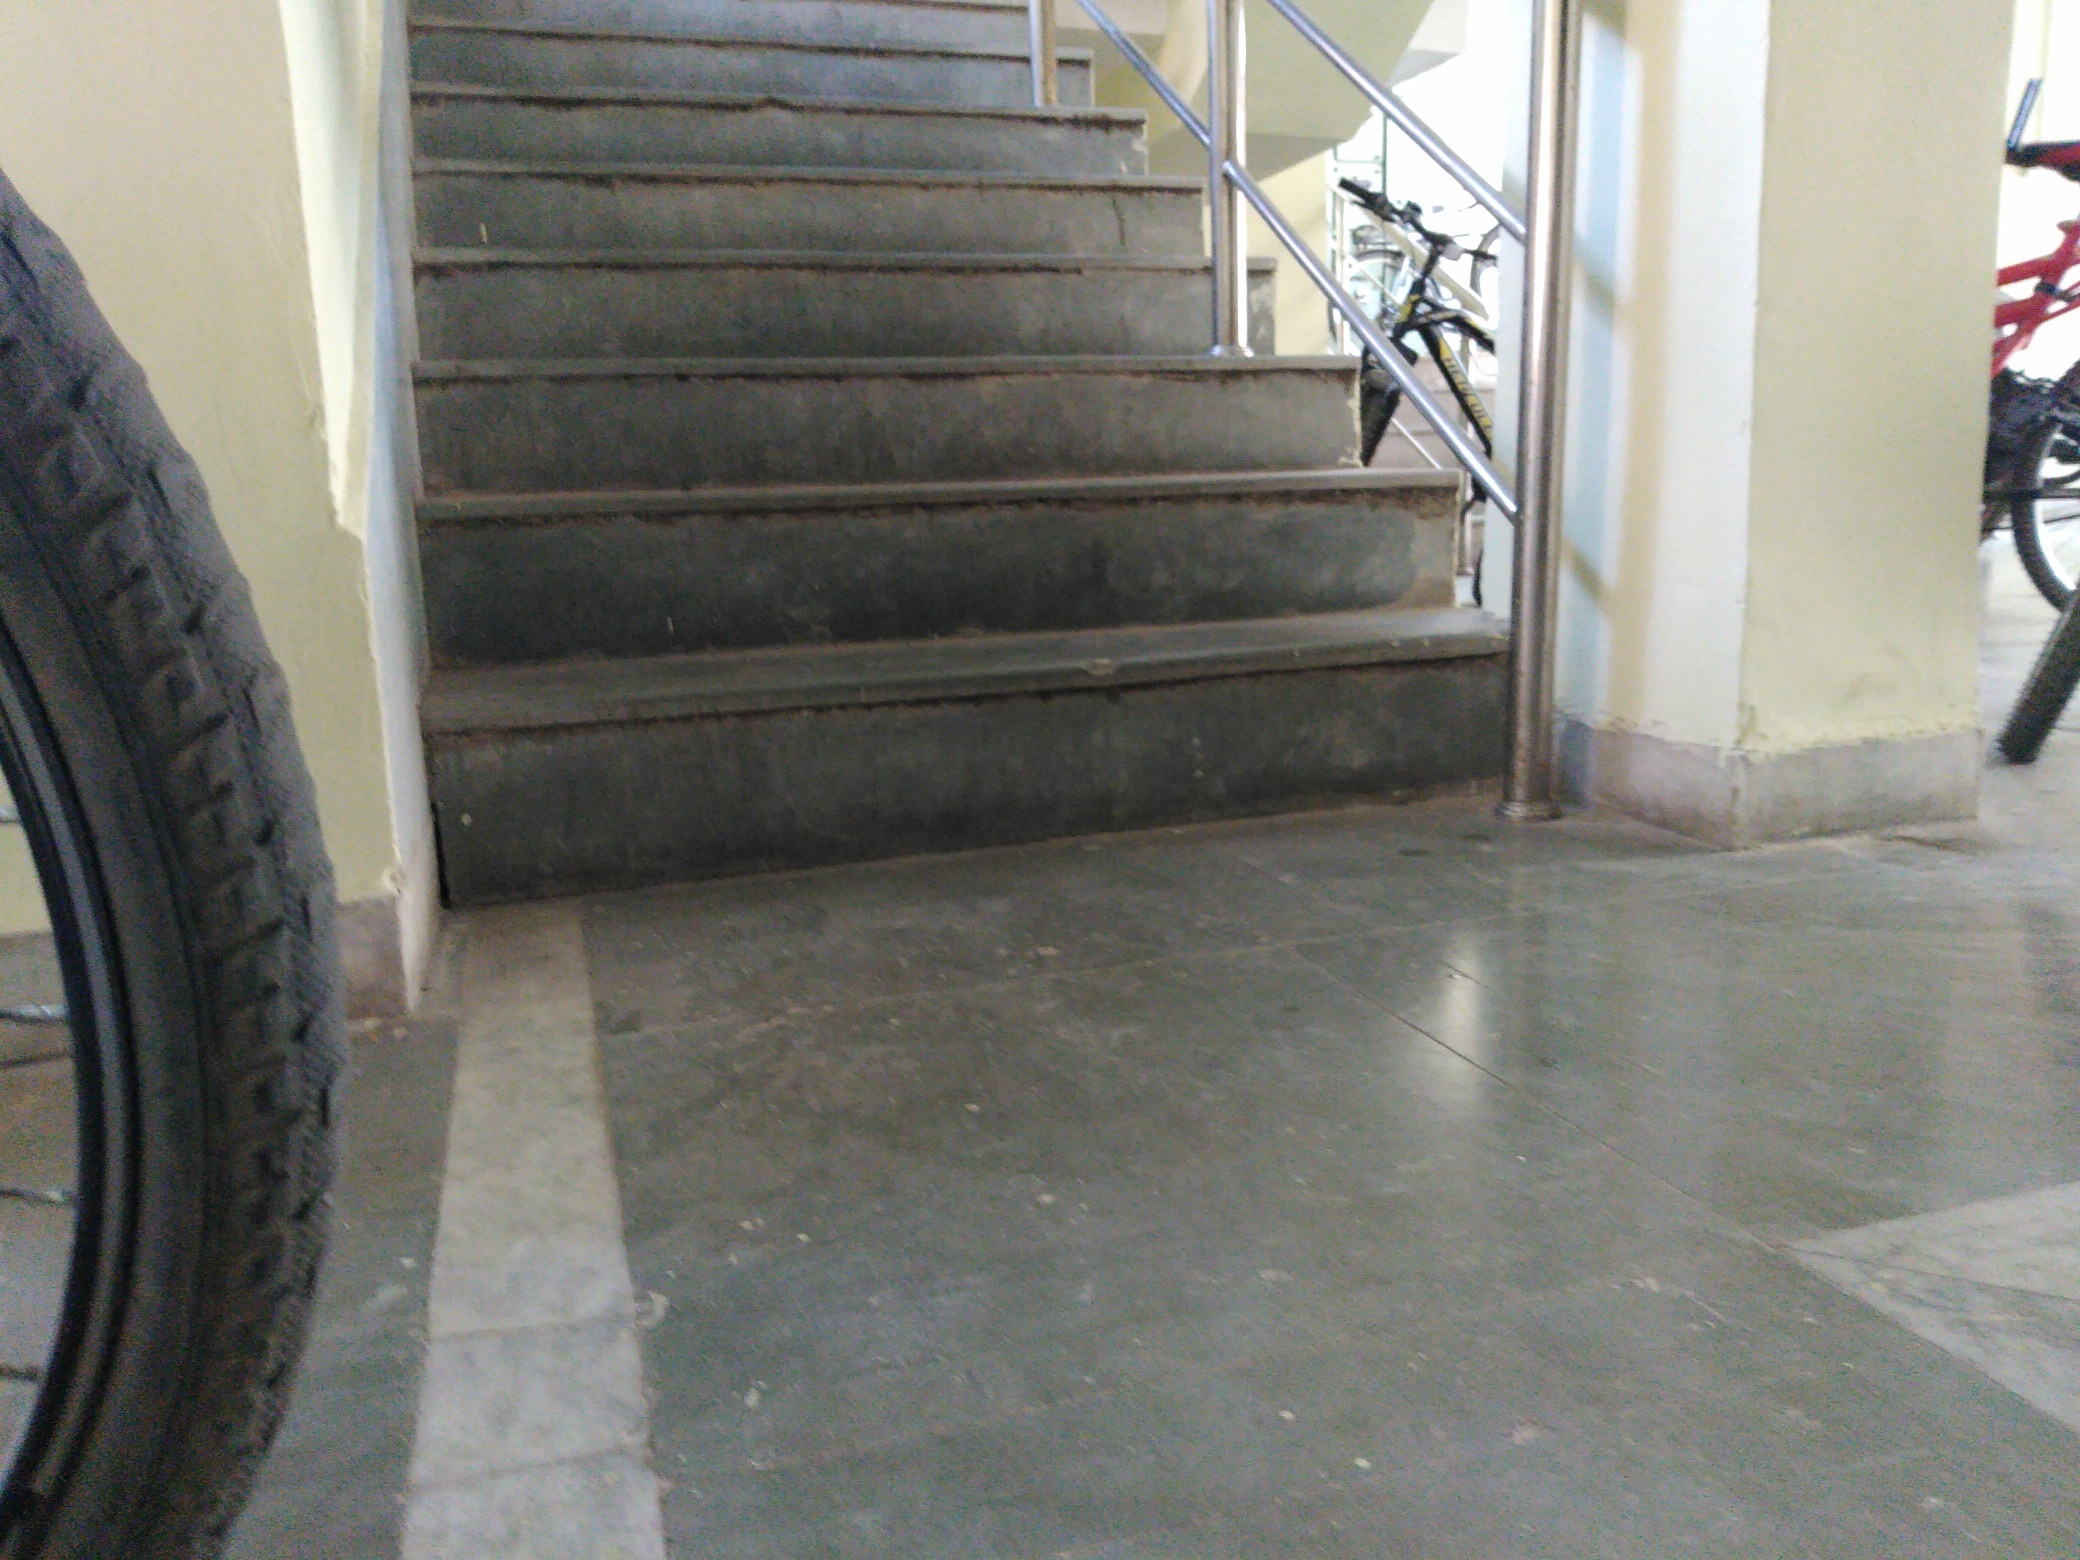stairs_up: (400, 16, 1517, 850)
